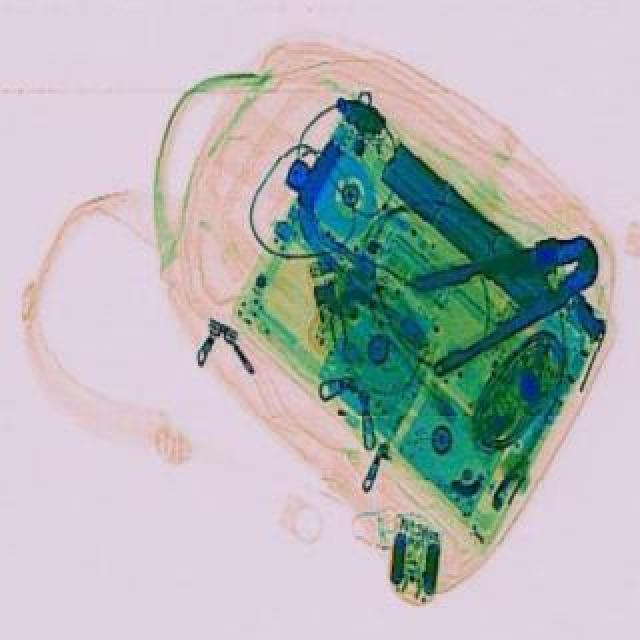wrench: (394, 212, 622, 374)
